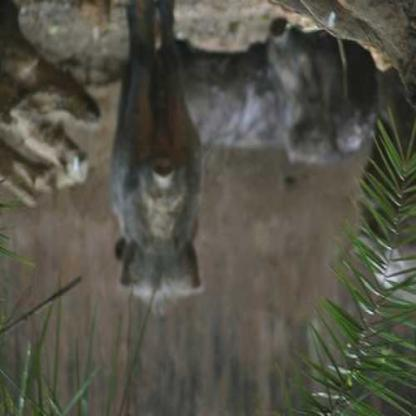boar: (102, 18, 230, 315)
